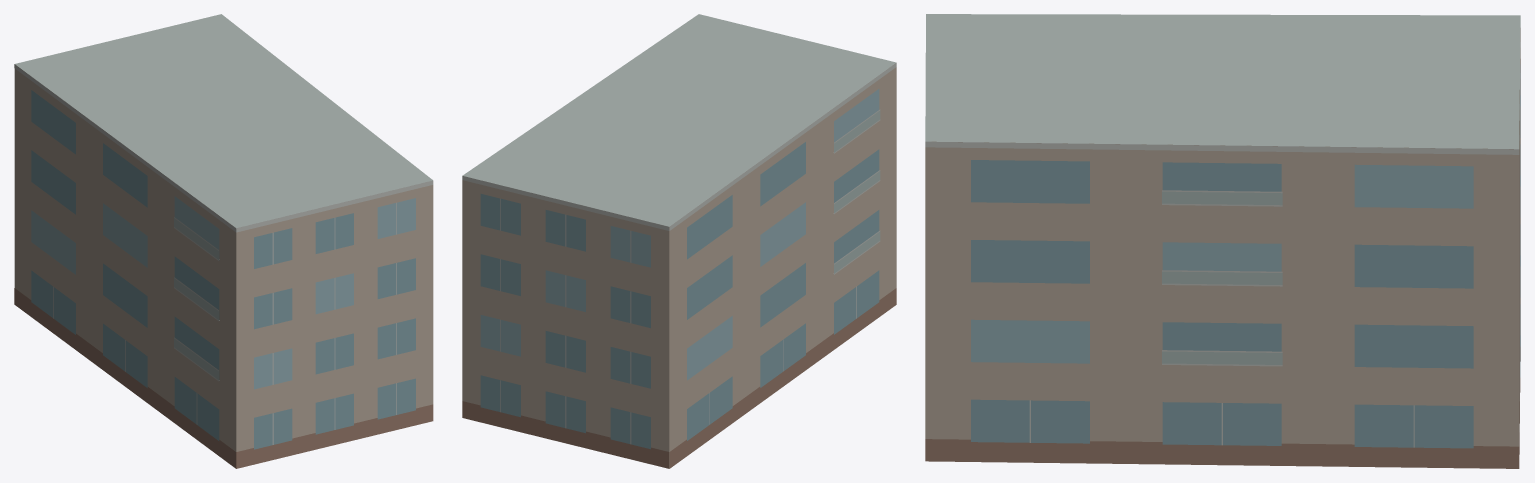
The model's file is survey-upis-33003683.glb.
3 renders of one model, left to right at view 1: azimuth 30°, elevation 25°; view 2: azimuth 150°, elevation 25°; view 3: azimuth 270°, elevation 25°, orthographic. The views are drawn at different scales.
Visible parts, largest first — view 1: survey-upis-33003683.tmp; view 2: survey-upis-33003683.tmp; view 3: survey-upis-33003683.tmp.
Boxes of the visible parts, x1,y1,x2,y2 form: survey-upis-33003683.tmp: (14, 14, 433, 468); survey-upis-33003683.tmp: (462, 14, 896, 468); survey-upis-33003683.tmp: (925, 14, 1520, 468).
Bounding box in the file's own units: 12.41 × 13.65 × 23.05.
